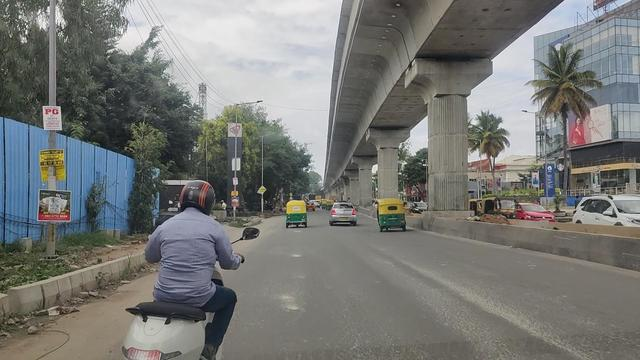LMV: (143, 182, 225, 360), (376, 198, 404, 234), (329, 201, 357, 228), (284, 200, 306, 227)
RoadDamages: (483, 319, 592, 357)
